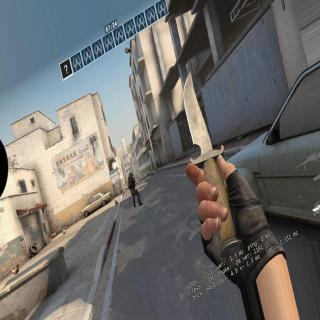CT-Body: (128, 171, 142, 203)
CT-Head: (129, 172, 133, 177)
